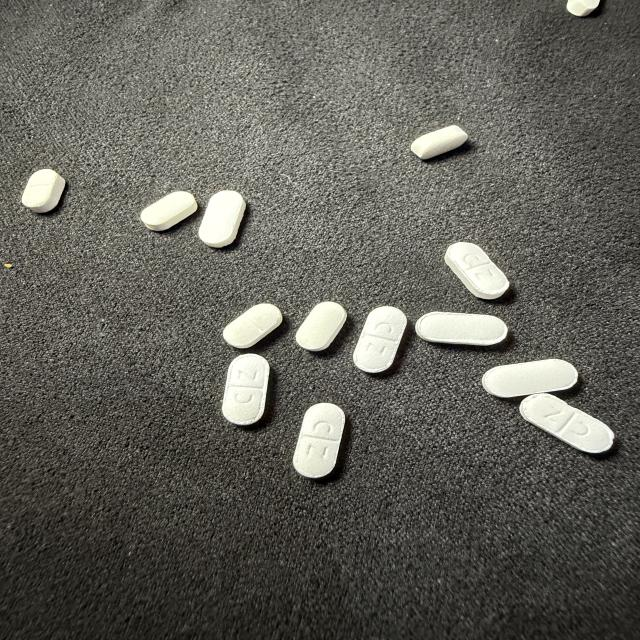pill: (520, 394, 613, 453), (293, 403, 345, 478), (482, 359, 577, 397), (445, 243, 509, 299), (354, 307, 406, 373), (223, 354, 269, 425), (416, 312, 507, 345), (199, 190, 245, 247), (223, 304, 282, 348), (296, 302, 346, 351), (141, 191, 197, 231), (411, 125, 467, 159), (22, 169, 65, 212), (567, 0, 599, 16)
